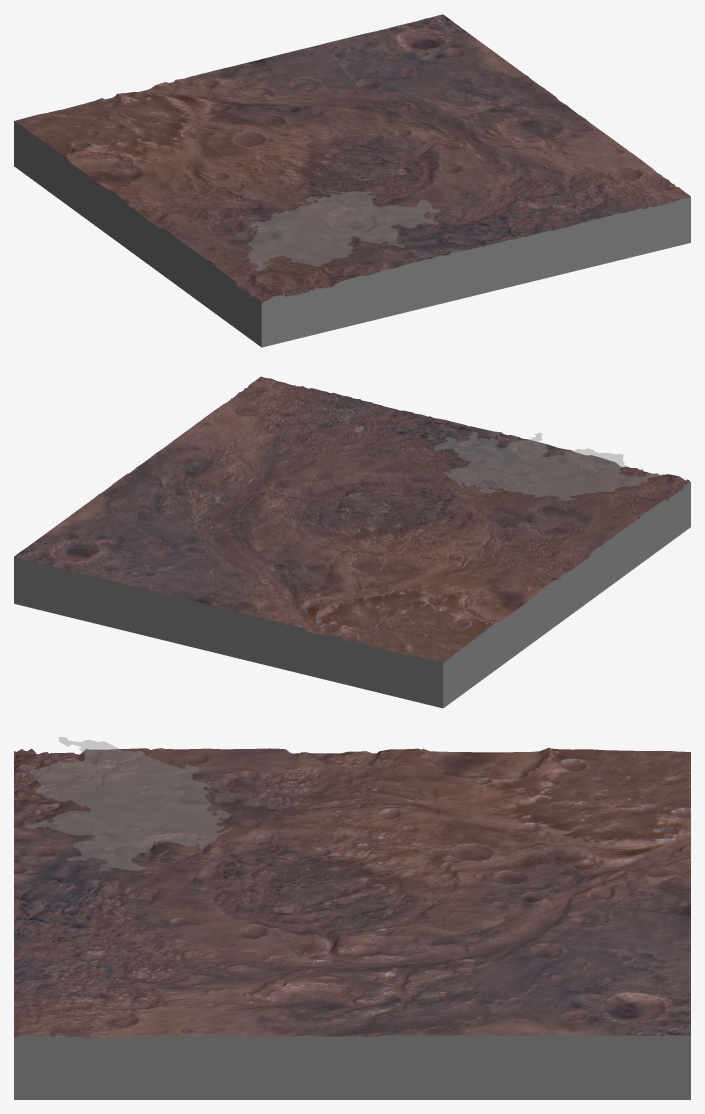
3 views of the same model, one above another, from view 1: azimuth 30°, elevation 25°; view 2: azimuth 150°, elevation 25°; view 3: azimuth 270°, elevation 25° (orthographic). The views are drawn at different scales.
Visible parts, largest first — view 1: LP, Comparison; view 2: LP, Comparison; view 3: LP, Comparison.
Part boxes in pixels (<box>): LP: <box>14,14,690,347</box>; Comparison: <box>246,191,441,270</box>; LP: <box>14,376,690,708</box>; Comparison: <box>433,432,662,501</box>; LP: <box>14,747,690,1099</box>; Comparison: <box>25,737,232,870</box>.
Size of the model in its own units: 7497 by 1027 by 7495.
Materials: 3 (2 with a texture image).
